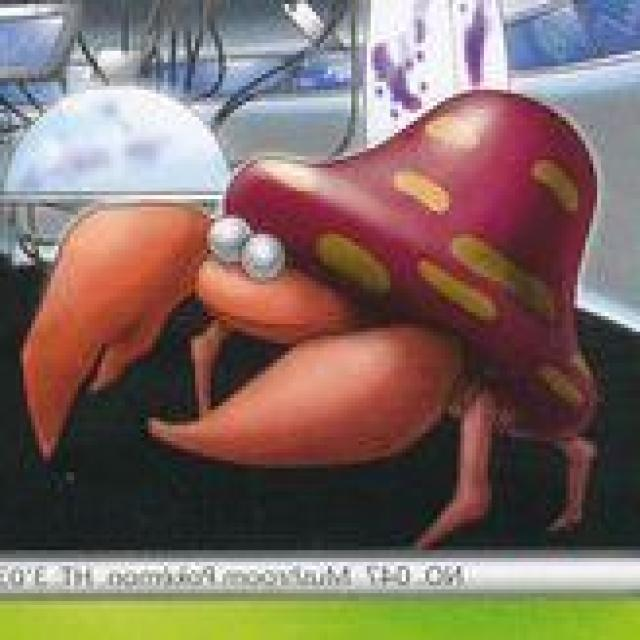Parasect: (28, 94, 600, 508)
